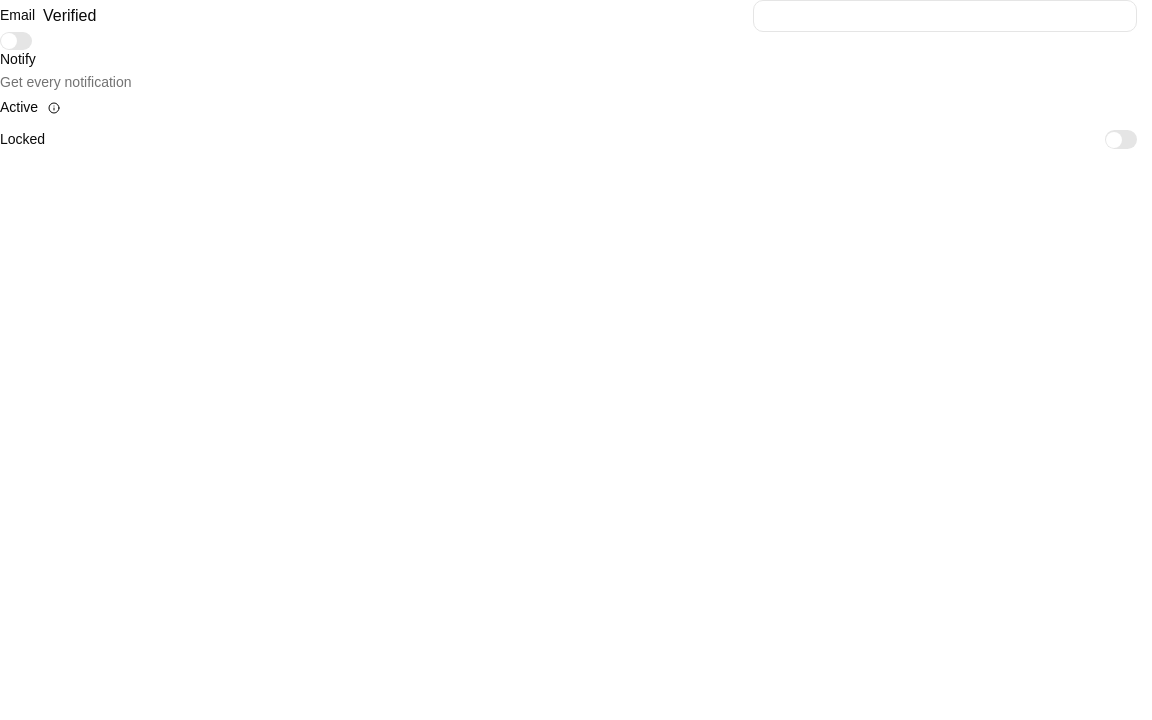
field layouts › keeps a switch description behind its info button and still reads it out
Click the button named "translated about Active". click: (54, 108)
box: 42,96 -> 66,120
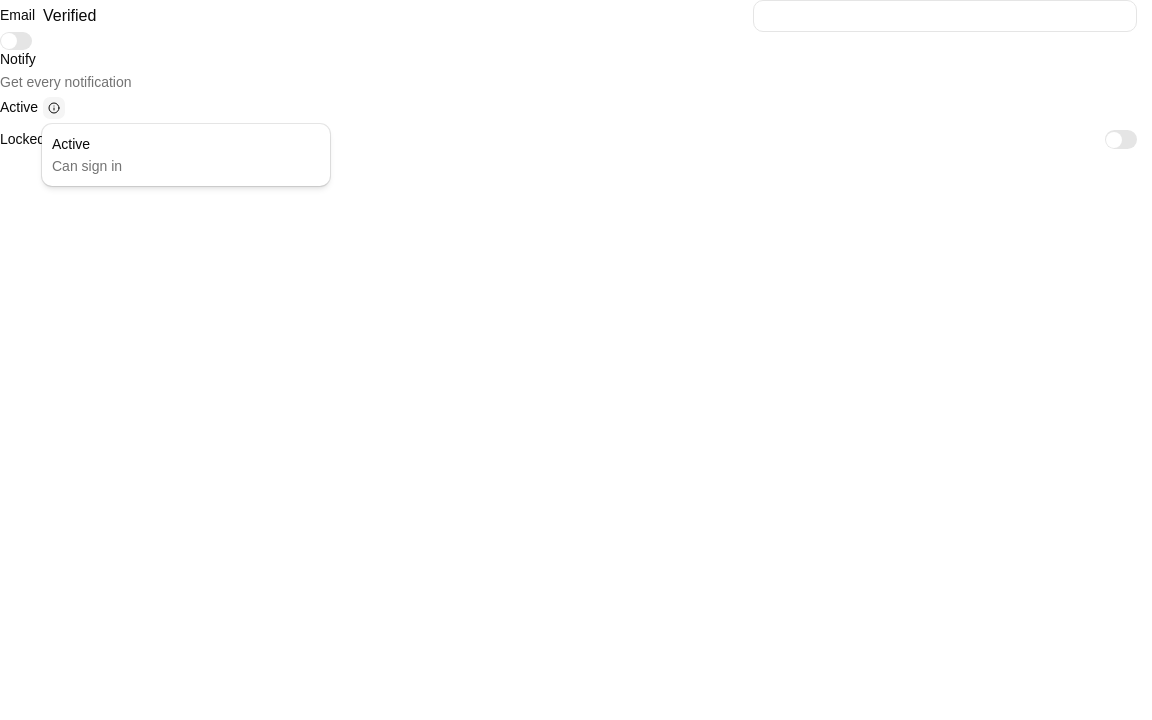
Expected: the dialog shows "Can sign in", 52,158 -> 122,174
